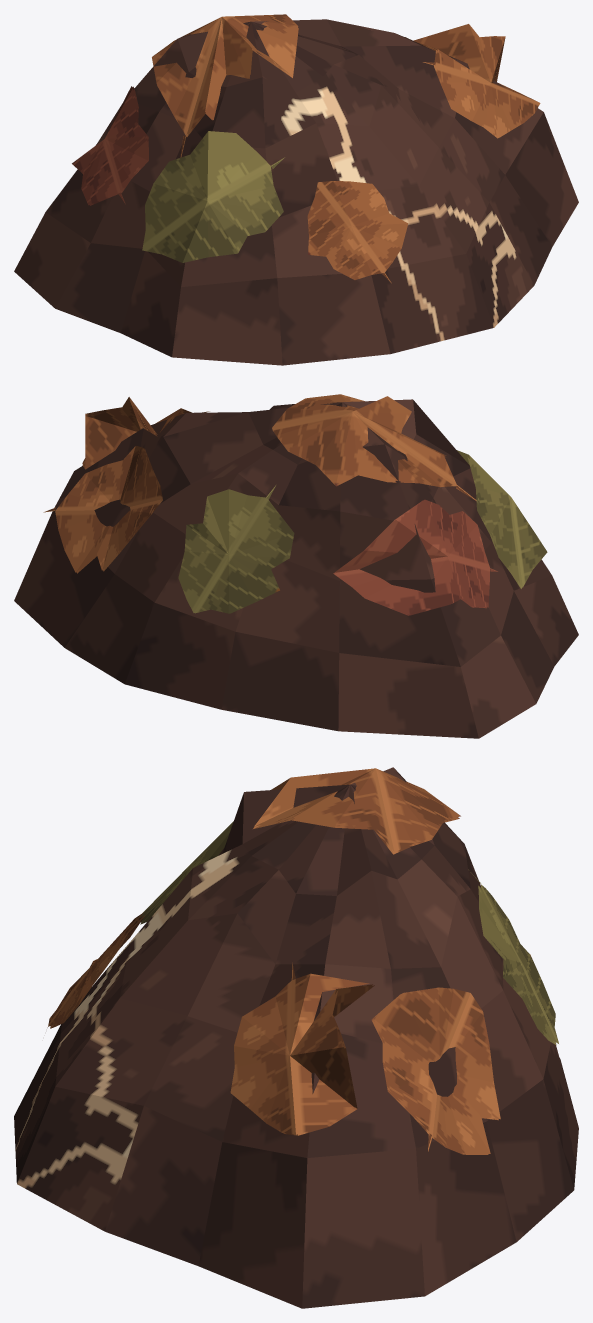
The model's file is SM_AN41_CompostMound.fbx.
The picture shows the model from 3 angles, top to bottom: view 1: azimuth 30°, elevation 25°; view 2: azimuth 150°, elevation 25°; view 3: azimuth 270°, elevation 25°; orthographic projection. The views are drawn at different scales.
Parts seen in each view (by area): view 1: AN41a_Props; view 2: AN41a_Props; view 3: AN41a_Props.
Part boxes in pixels (left/top/right/bottom): AN41a_Props: left=14, top=14, right=578, bottom=365; AN41a_Props: left=14, top=394, right=578, bottom=738; AN41a_Props: left=14, top=767, right=578, bottom=1308.
Bounding box in the file's own units: 1.55 × 0.7279 × 1.14.
